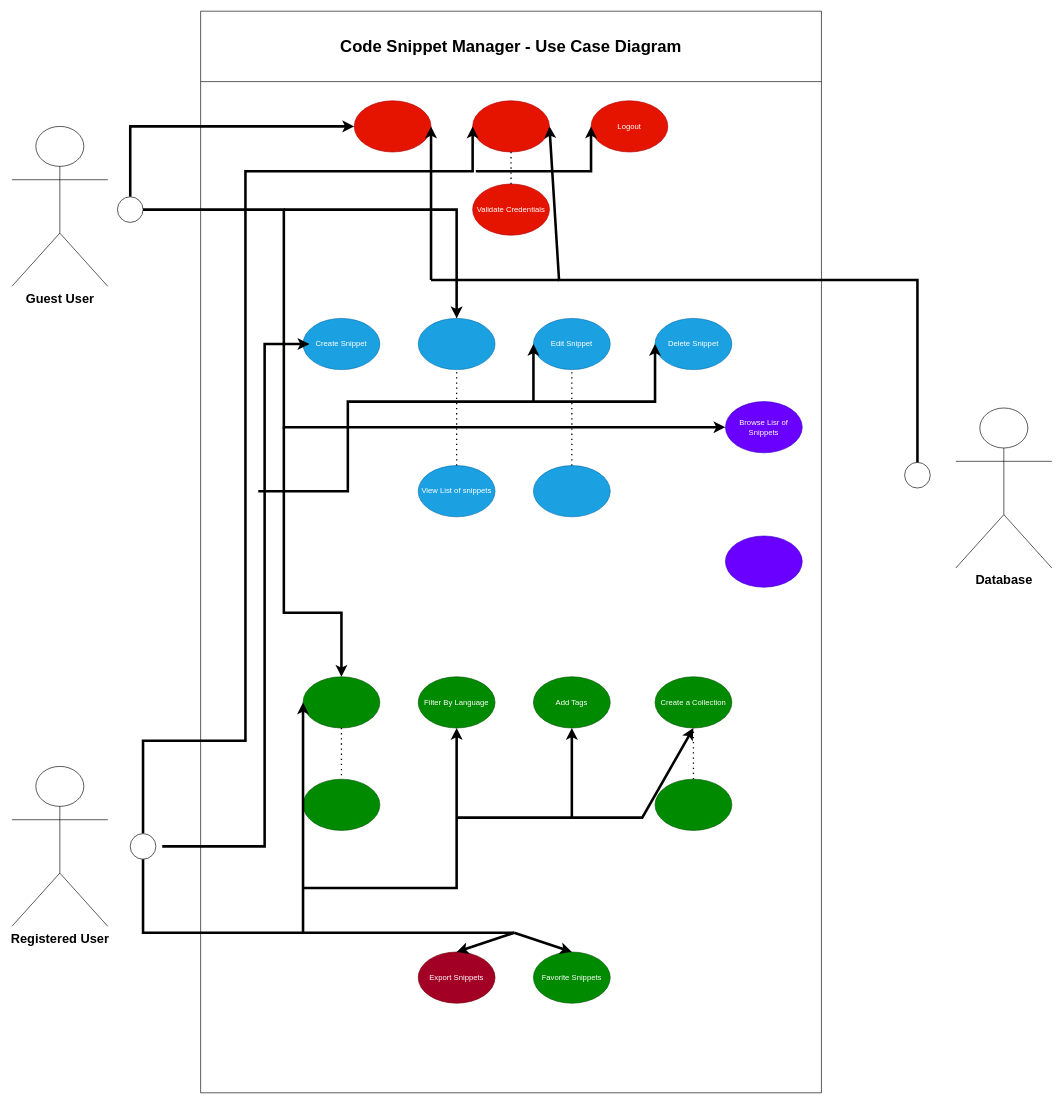
Some shapes in this 1063 by 1104 pixel diagram are drawn without their labels. The box of each missing label's shape, as (x1, y1, x2, y2) in pixels:
Add to collection: (654, 779, 732, 830)
Choose Language: (533, 465, 610, 517)
Display Results: (302, 779, 380, 830)
Login: (472, 100, 549, 152)
Make Snippet Public/Pribate: (725, 535, 802, 587)
Register Account: (354, 100, 431, 152)
Search Snippets: (302, 676, 380, 728)
View Snippet: (418, 318, 495, 370)
